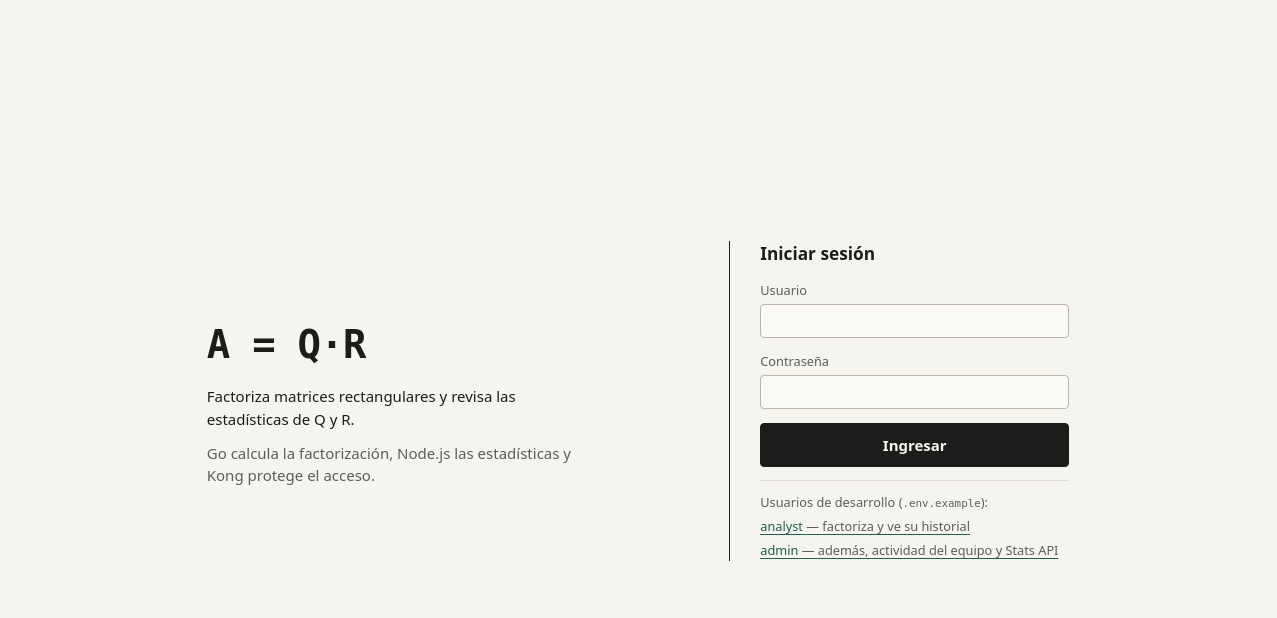
Test: App › cierra la sesión si Kong rechaza el token
The image size is (1277, 618).
In the field labelled "Usuario": (915, 321) [760,304,1069,338], type "analyst"
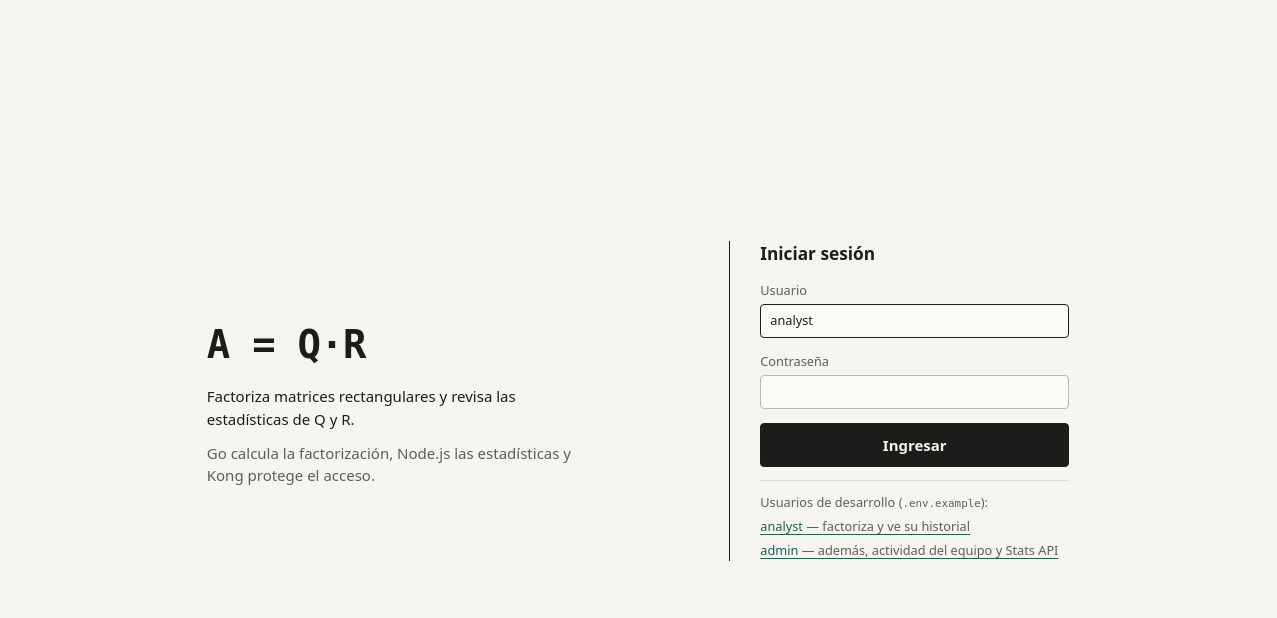
In the password field labelled "Contraseña": (915, 392) [760,375,1069,409], type "Analyst123!"
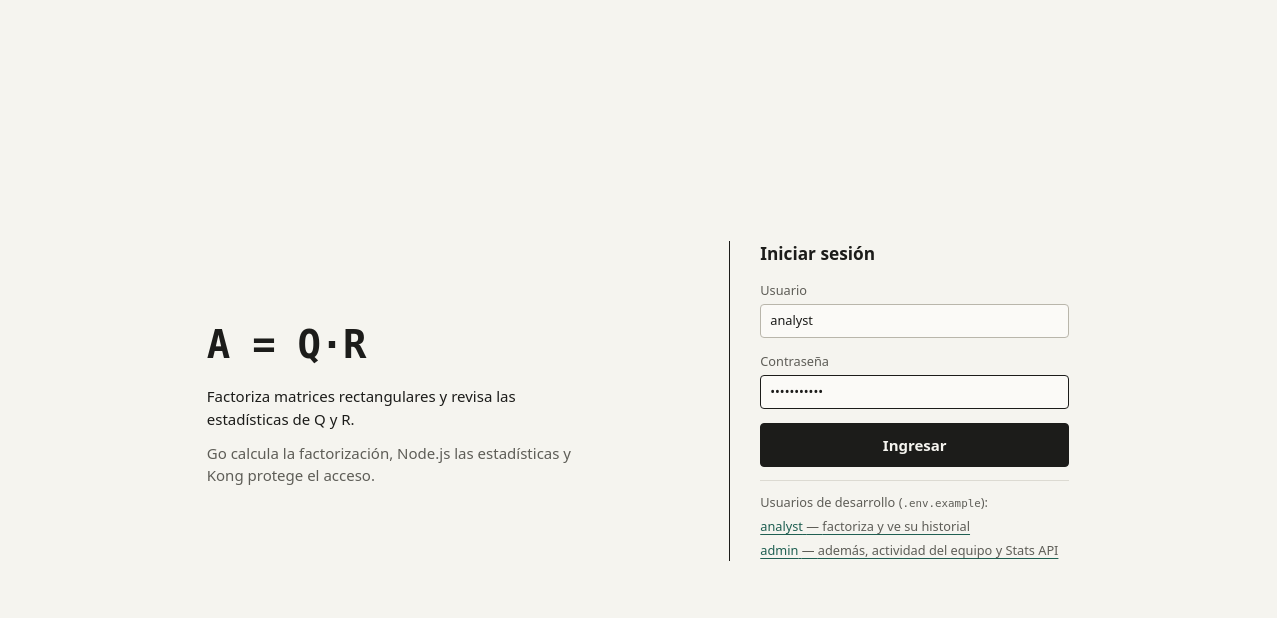
Click the button "Ingresar": click(915, 445) [760,423,1069,467]
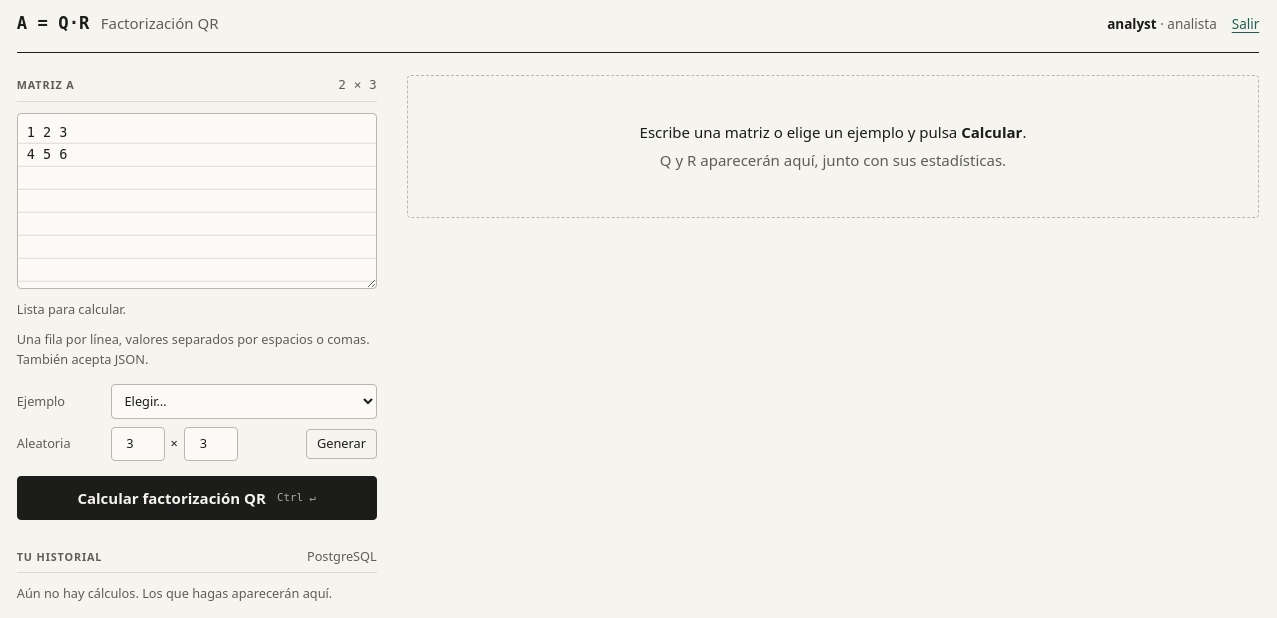
Click the button "Calcular factorización QR Ctrl ↵": click(197, 498) [17,476,377,520]
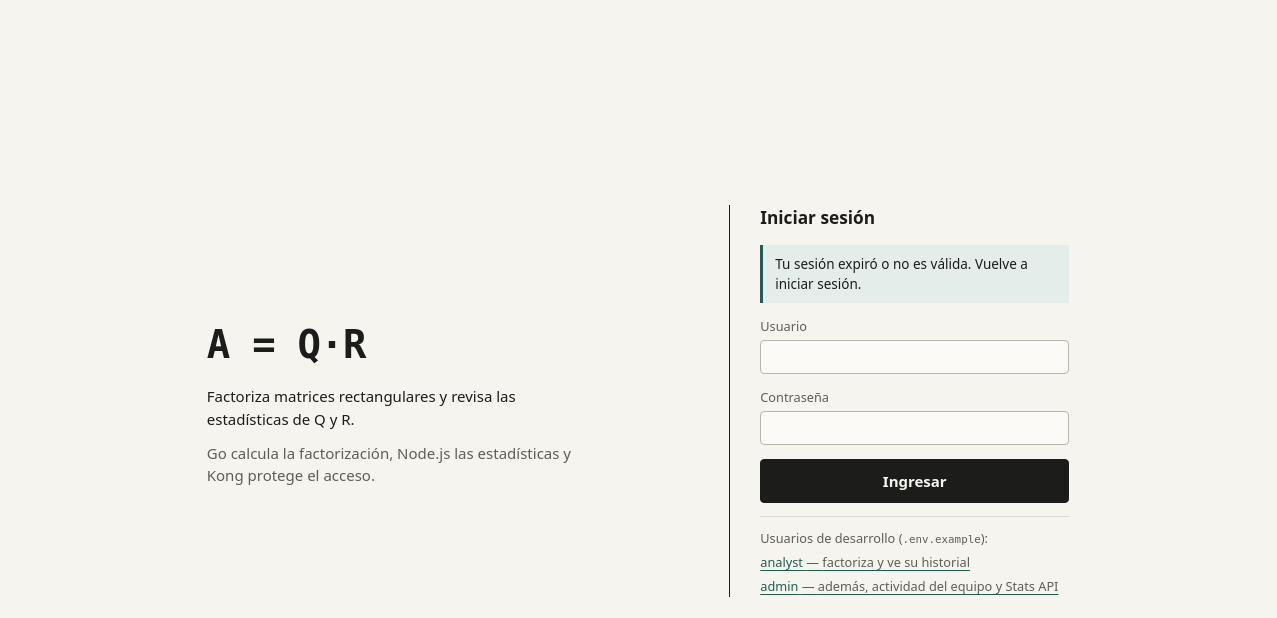
Expected: the button "Ingresar" is shown, [760,459,1069,503]
Expected: the message shows "sesión expiró o no es válida", [775,255,1028,293]
